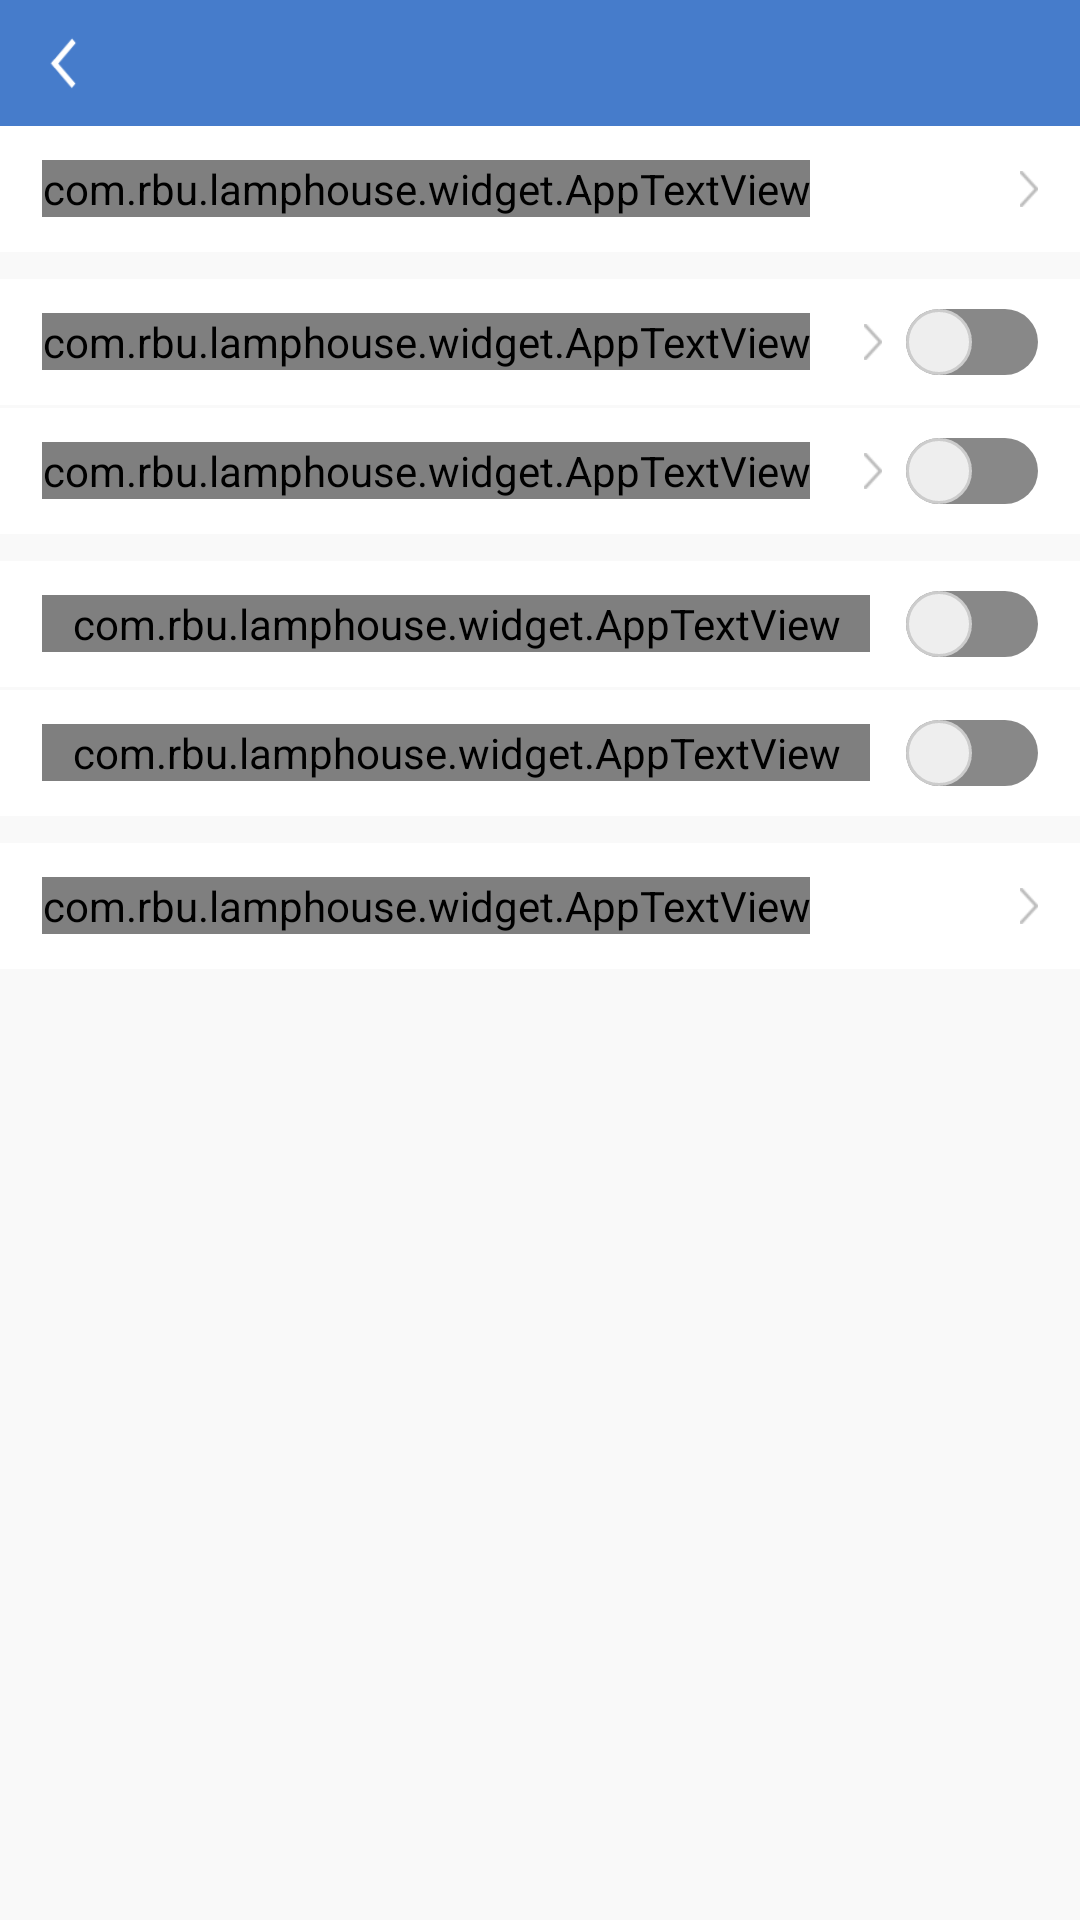

Named icons in this screenshot (1080*1920) and their bounding boxes, (x1, y1, x2, y2):
back: (50, 38, 76, 88)
